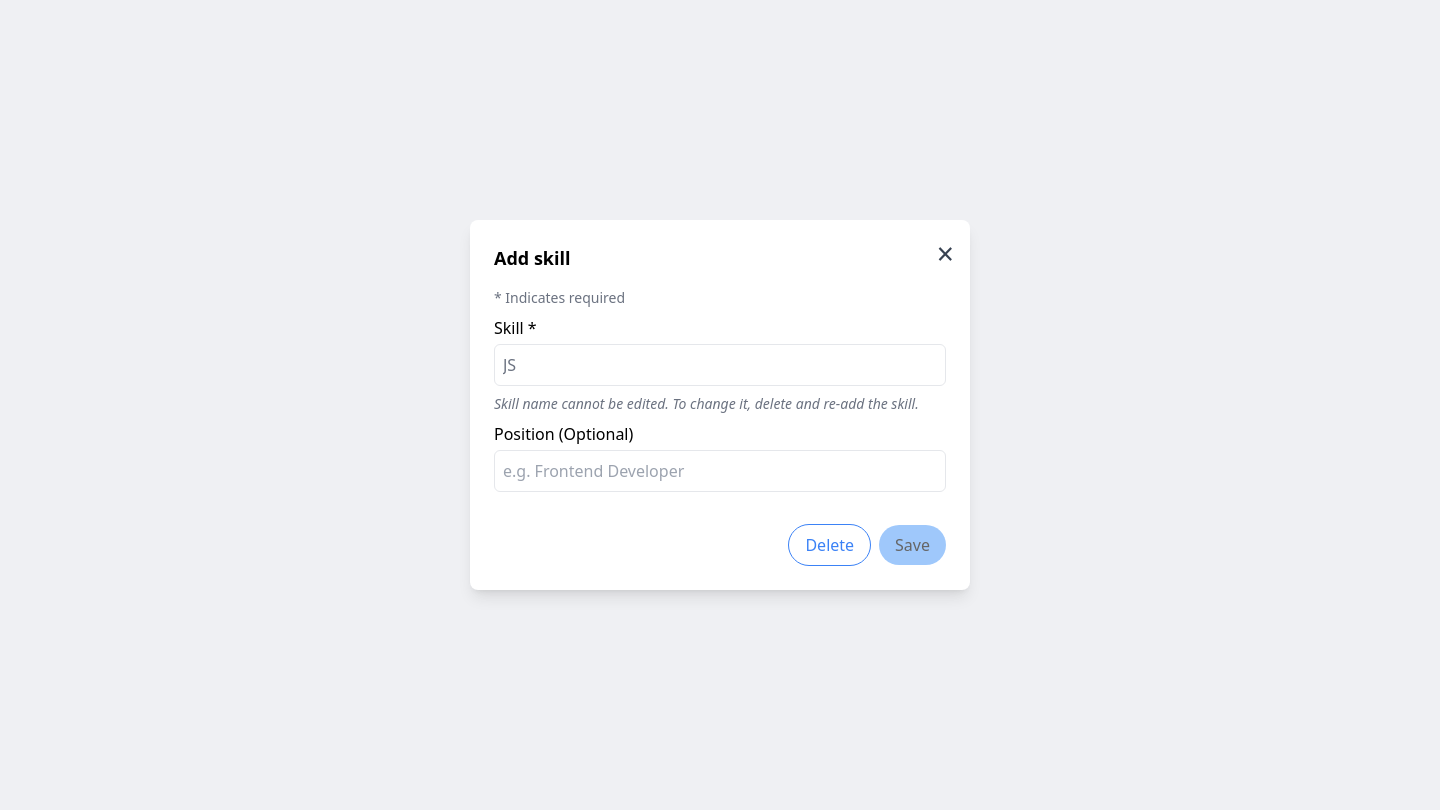
GenericModal › closes discard modal without confirming
Replace the text in the field labelled "Skill *" with "TS": (720, 365) x1=494 y1=344 x2=946 y2=386
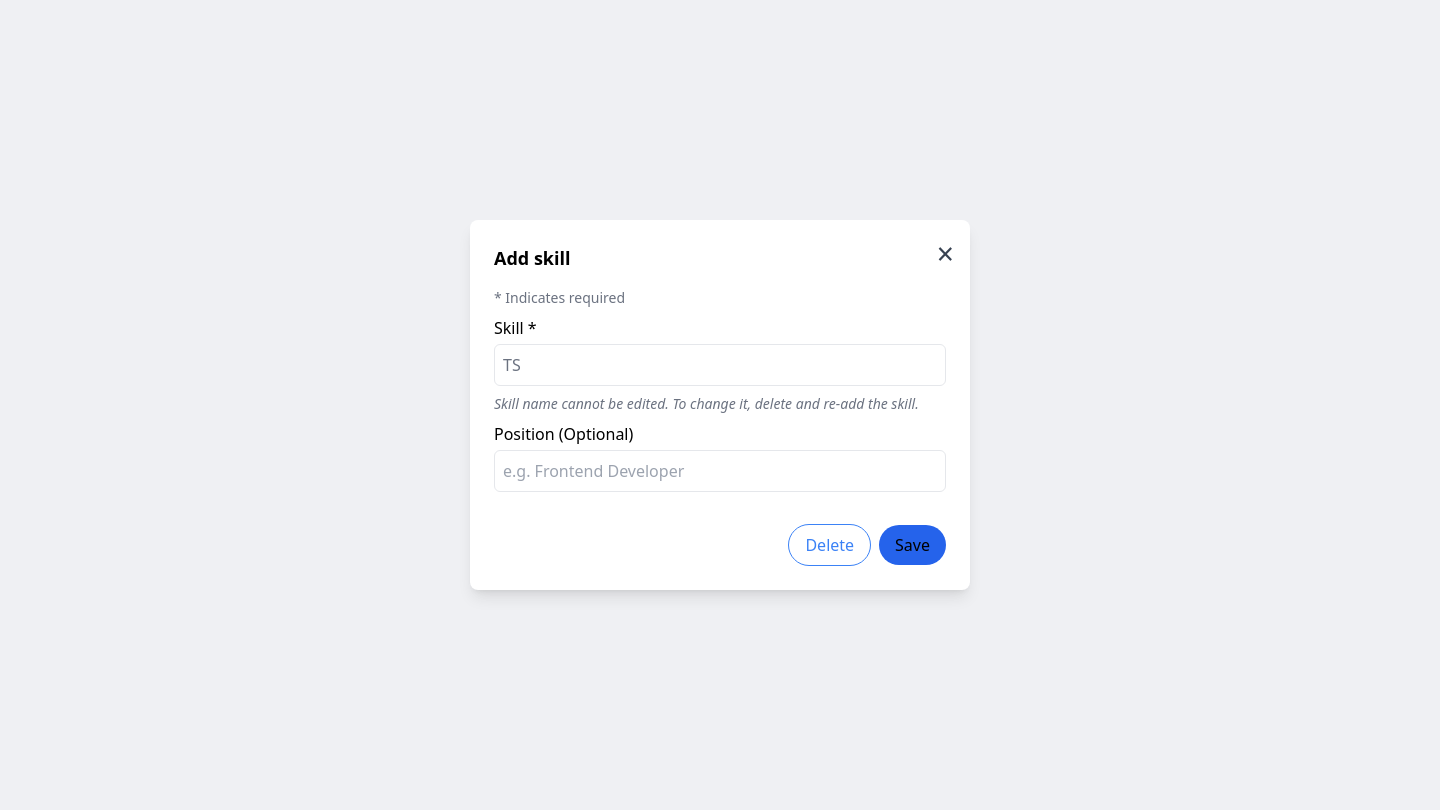
Click the button named "Close modal": click(945, 254) x1=937 y1=236 x2=954 y2=272
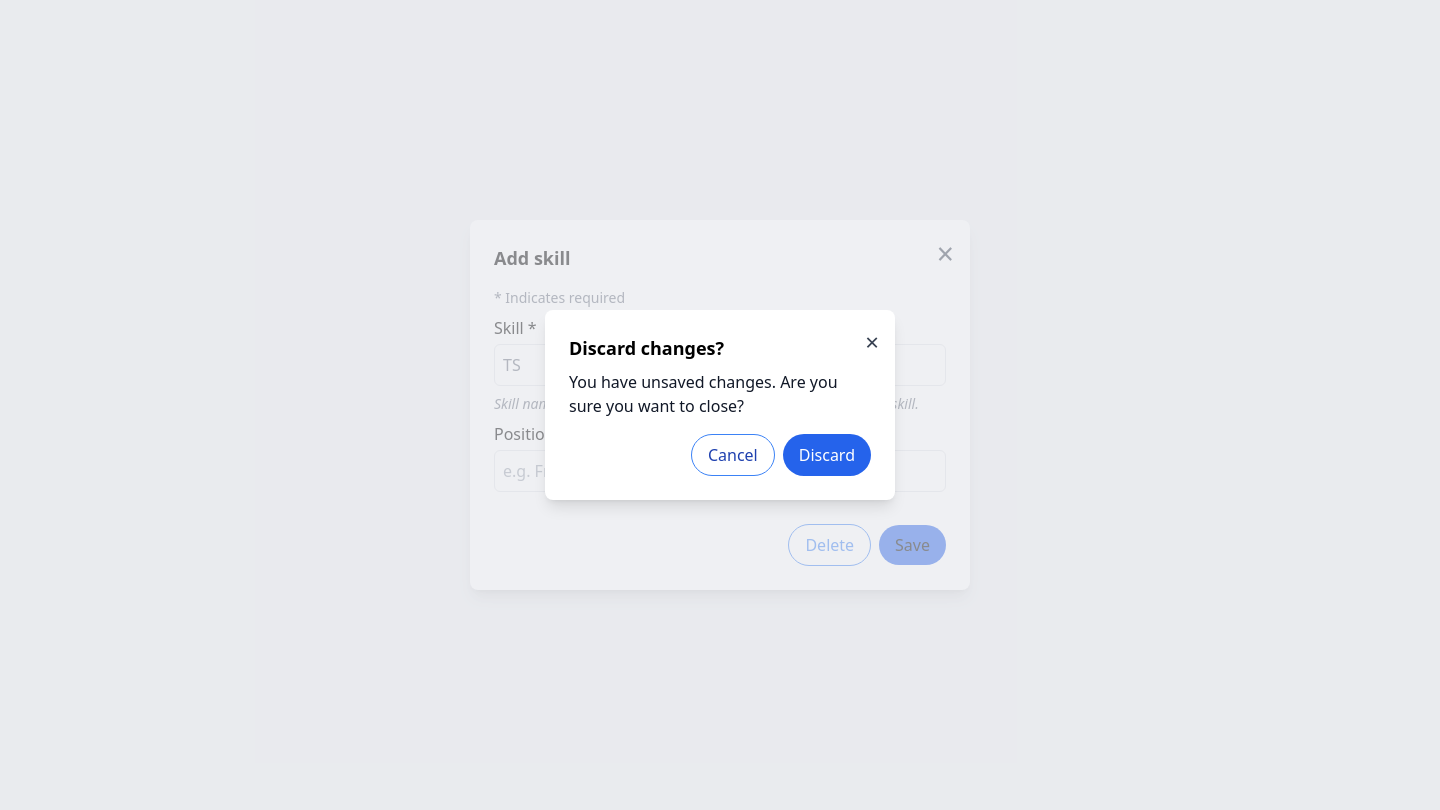
Click the button "Cancel": click(733, 455) x1=691 y1=434 x2=775 y2=476
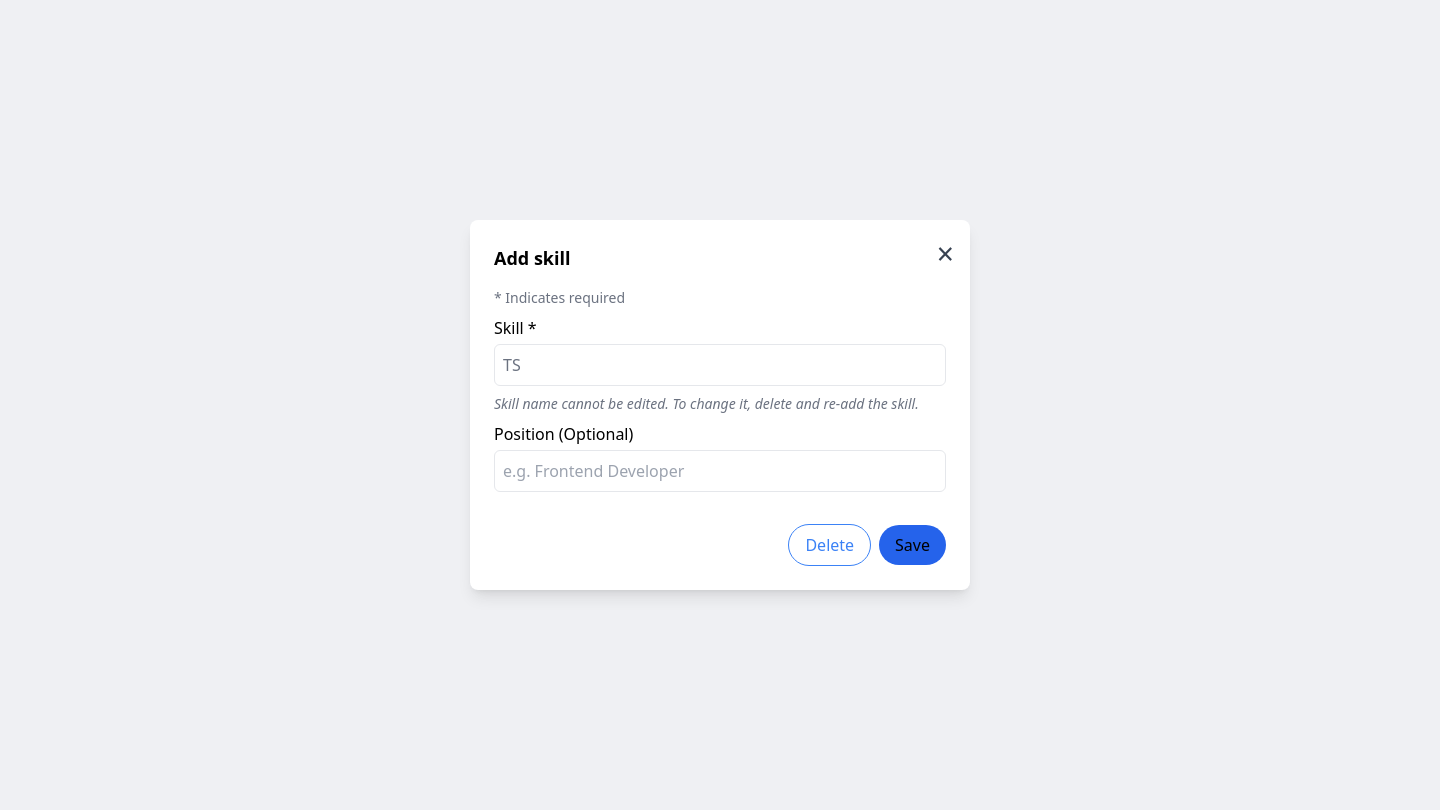
Now the heading "Discard changes" is gone
